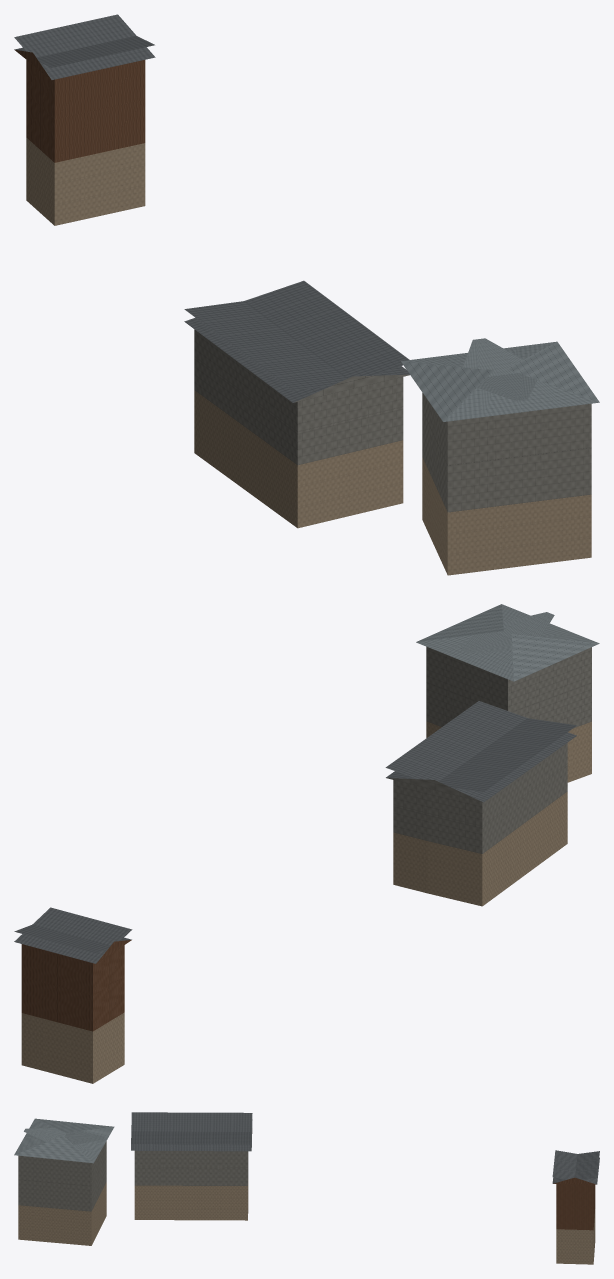
Rendered from bld_c32_-39_454.gltf.
3 views of the same model, one above another, from view 1: azimuth 30°, elevation 25°; view 2: azimuth 150°, elevation 25°; view 3: azimuth 270°, elevation 25° (orthographic). The views are drawn at different scales.
Parts seen in each view (by area): view 1: bld_c32_-39_454; view 2: bld_c32_-39_454; view 3: bld_c32_-39_454.
Part boxes in pixels (bbox=[...]): bld_c32_-39_454: bbox=[14, 14, 599, 575]; bld_c32_-39_454: bbox=[14, 604, 599, 1083]; bld_c32_-39_454: bbox=[14, 1112, 599, 1264].
Size of the model in its own units: 21.32 by 15.4 by 78.8.
7 materials, 7 textured.
